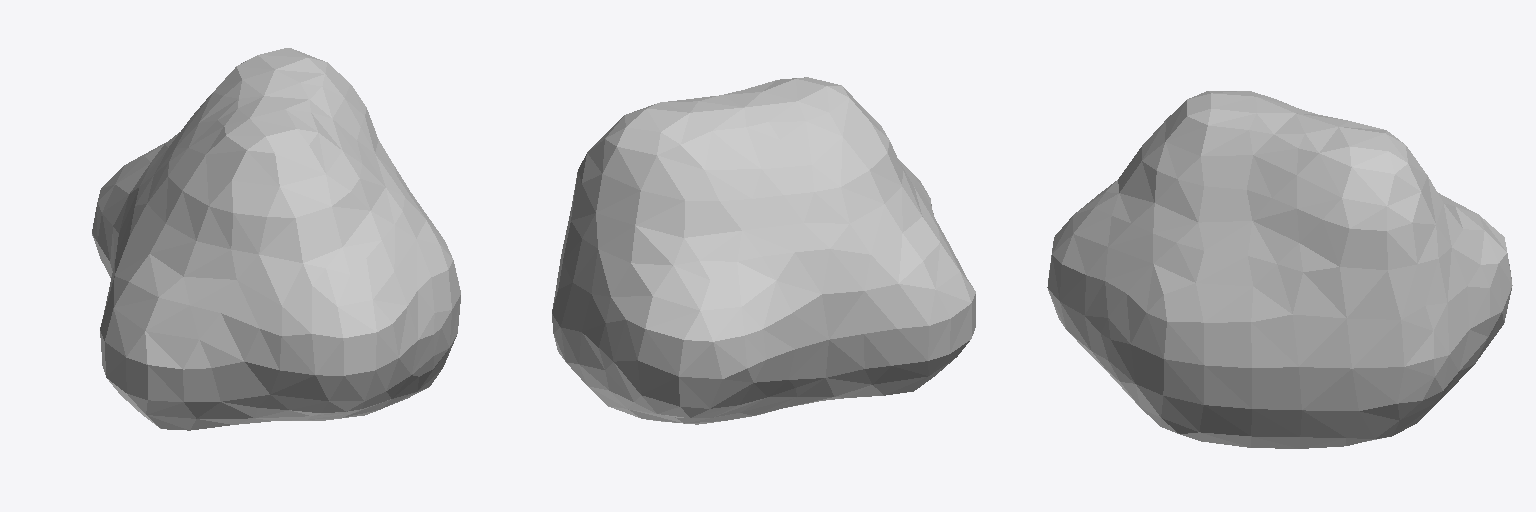
The model's file is Cloud1.obj.
3 renders of one model, left to right at view 1: azimuth 30°, elevation 25°; view 2: azimuth 150°, elevation 25°; view 3: azimuth 270°, elevation 25°, orthographic.
Visible parts, largest first — view 1: Cloud1; view 2: Cloud1; view 3: Cloud1.
Boxes of the visible parts, x1,y1,x2,y2 form: Cloud1: [92, 48, 460, 430]; Cloud1: [552, 77, 975, 424]; Cloud1: [1047, 91, 1512, 448].
Bounding box in the file's own units: 4.8 × 4.2 × 5.79.